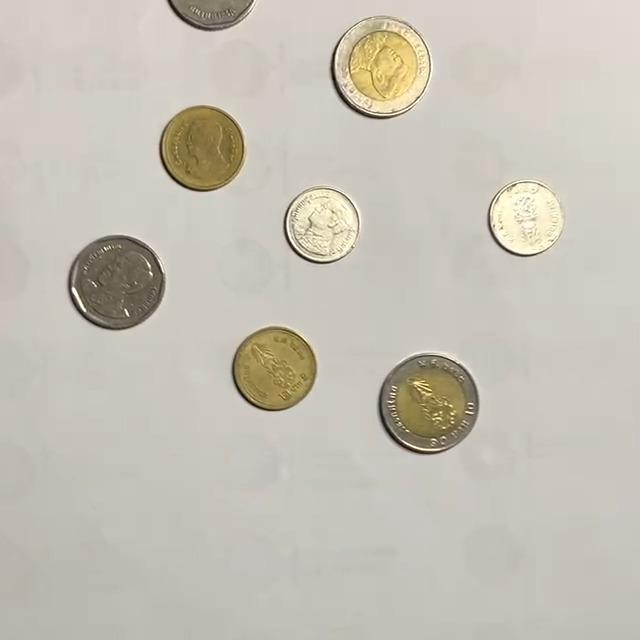1-baht: (488, 180, 566, 257), (284, 187, 361, 263)
10-baht: (332, 15, 433, 116), (380, 353, 481, 453)
2-baht: (160, 105, 248, 191), (232, 327, 318, 411)
5-baht: (68, 234, 168, 330), (164, 0, 261, 30)
